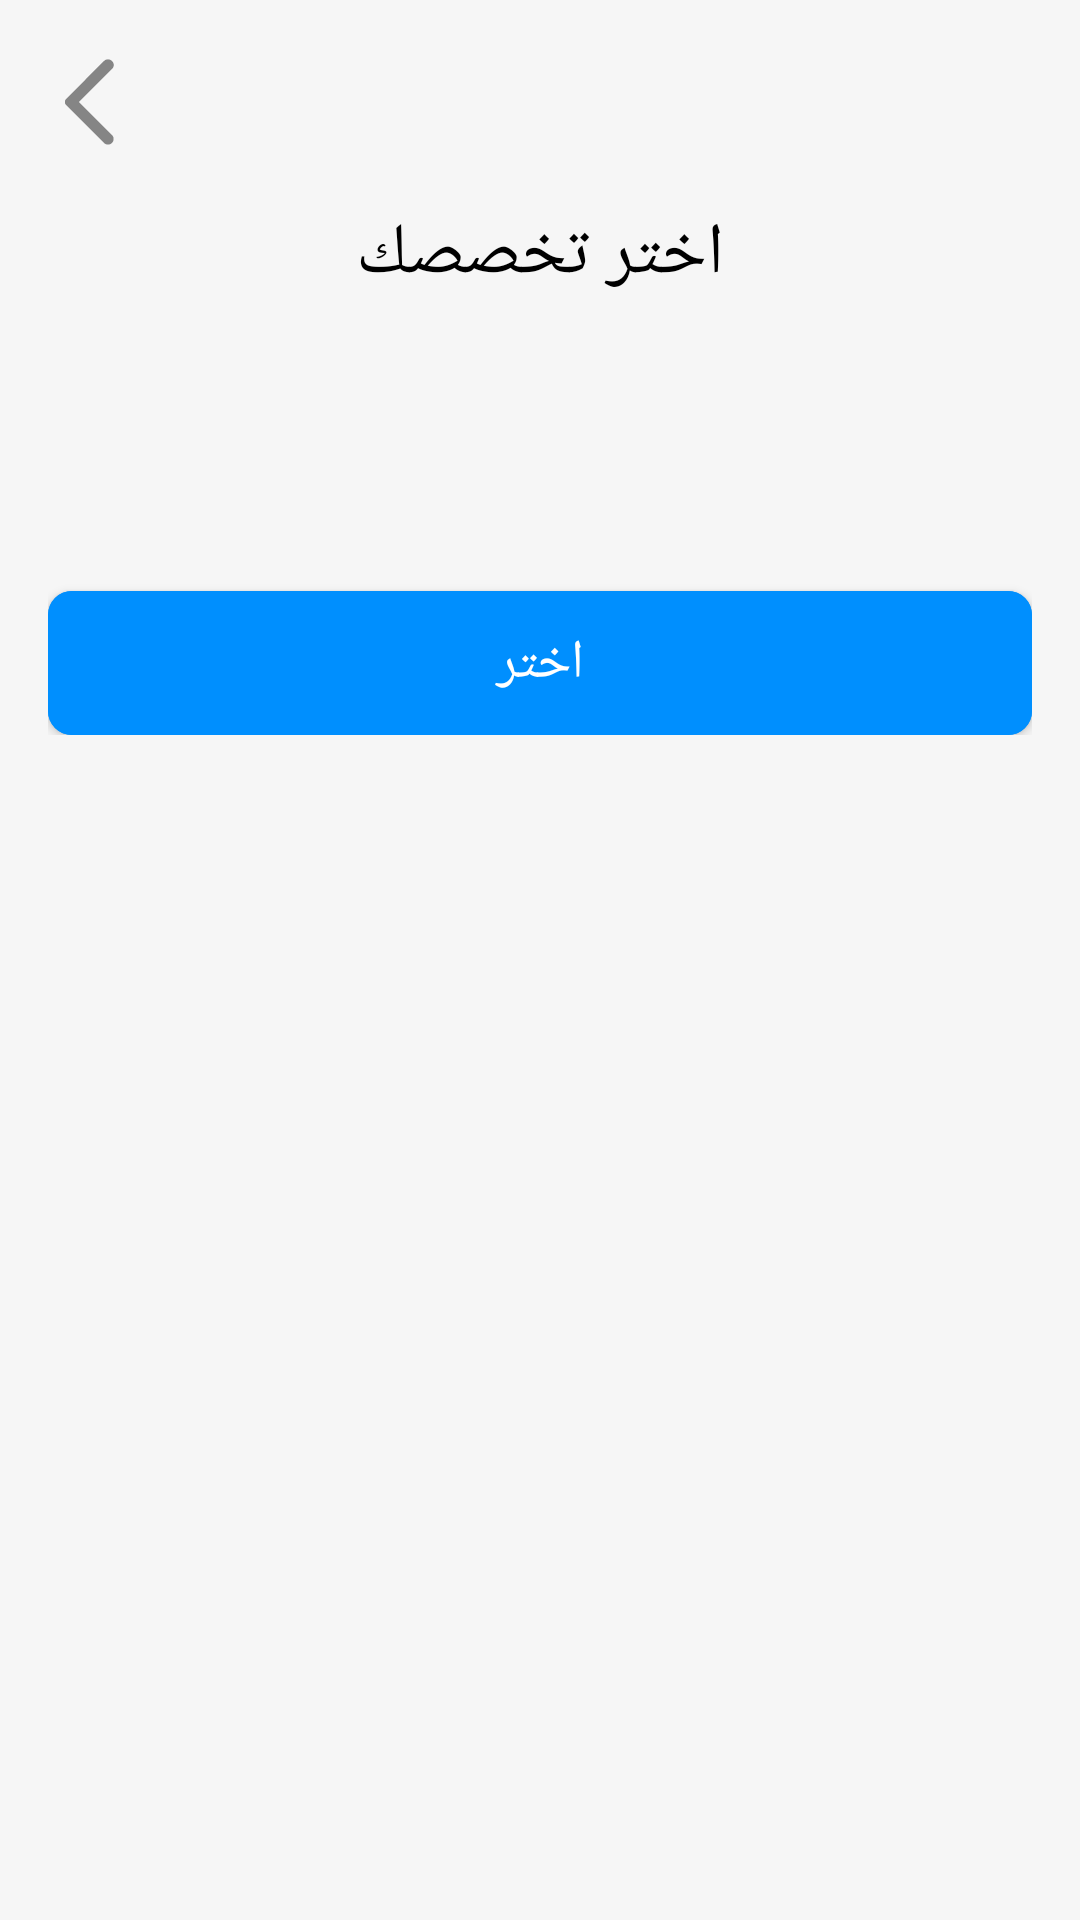

Screen size 1080 × 1920. Icon name, then its box in pixels as (x1, y1, x2, y2):
back: (65, 59, 114, 145)
